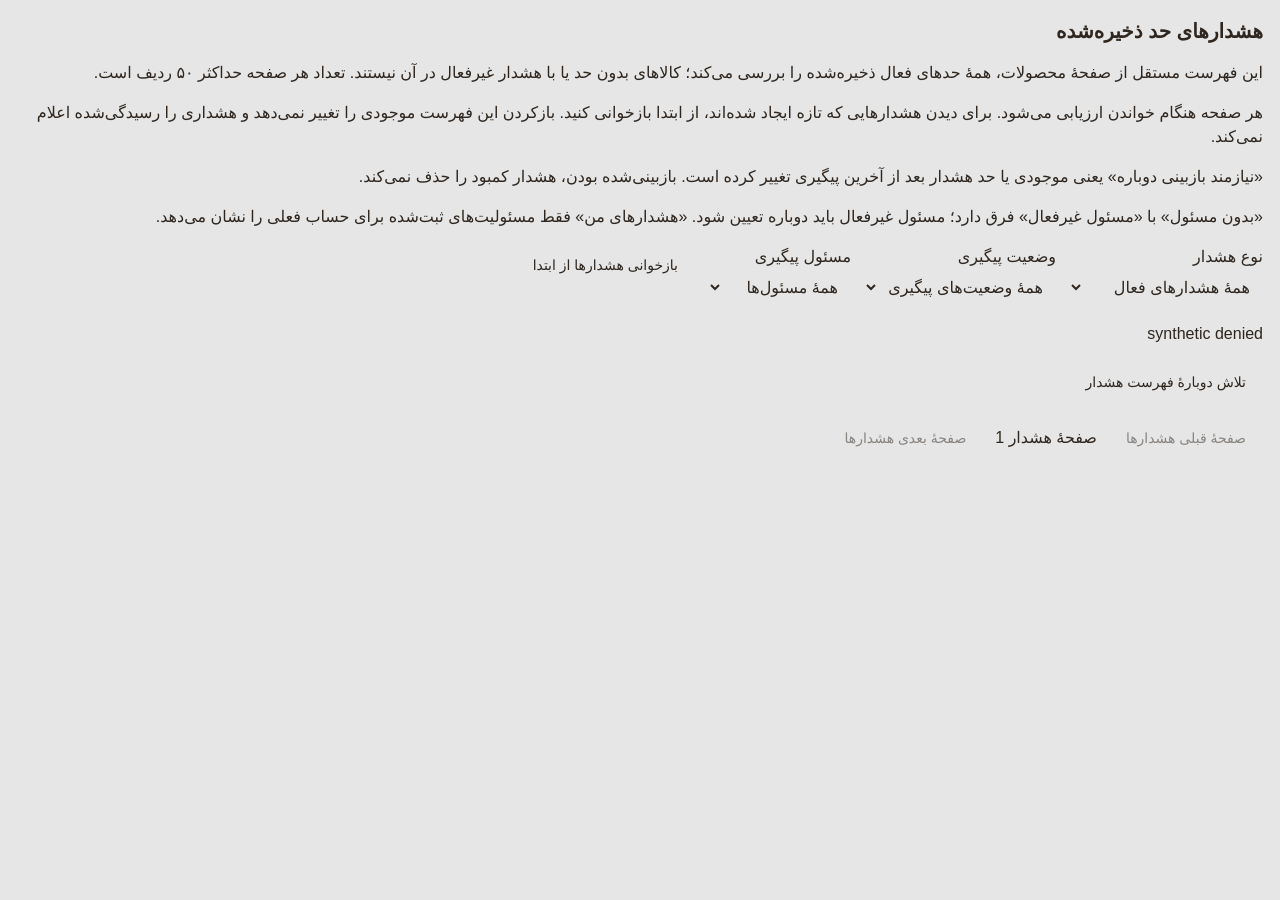
does not announce an unavailable read as an empty queue
The image size is (1280, 900).
Expected: the message "synthetic denied" is shown, [1147,325,1263,342]
Click the button "تلاش دوبارهٔ فهرست هشدار". click: (1166, 382)
box: [1068,362,1263,402]
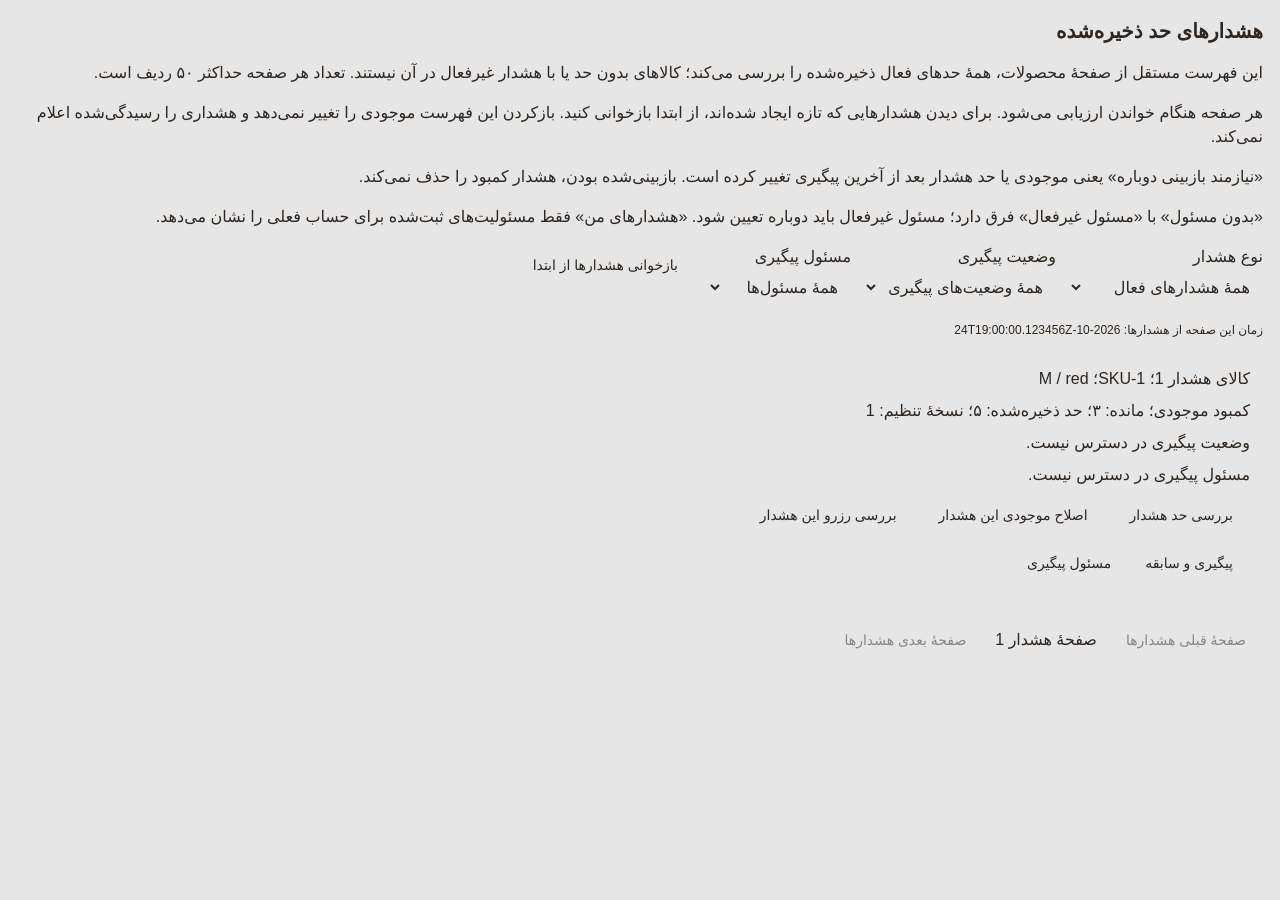
Result: the text "کالای هشدار 1؛ SKU-1؛ M / red" is shown at [1039,370,1250,387]
